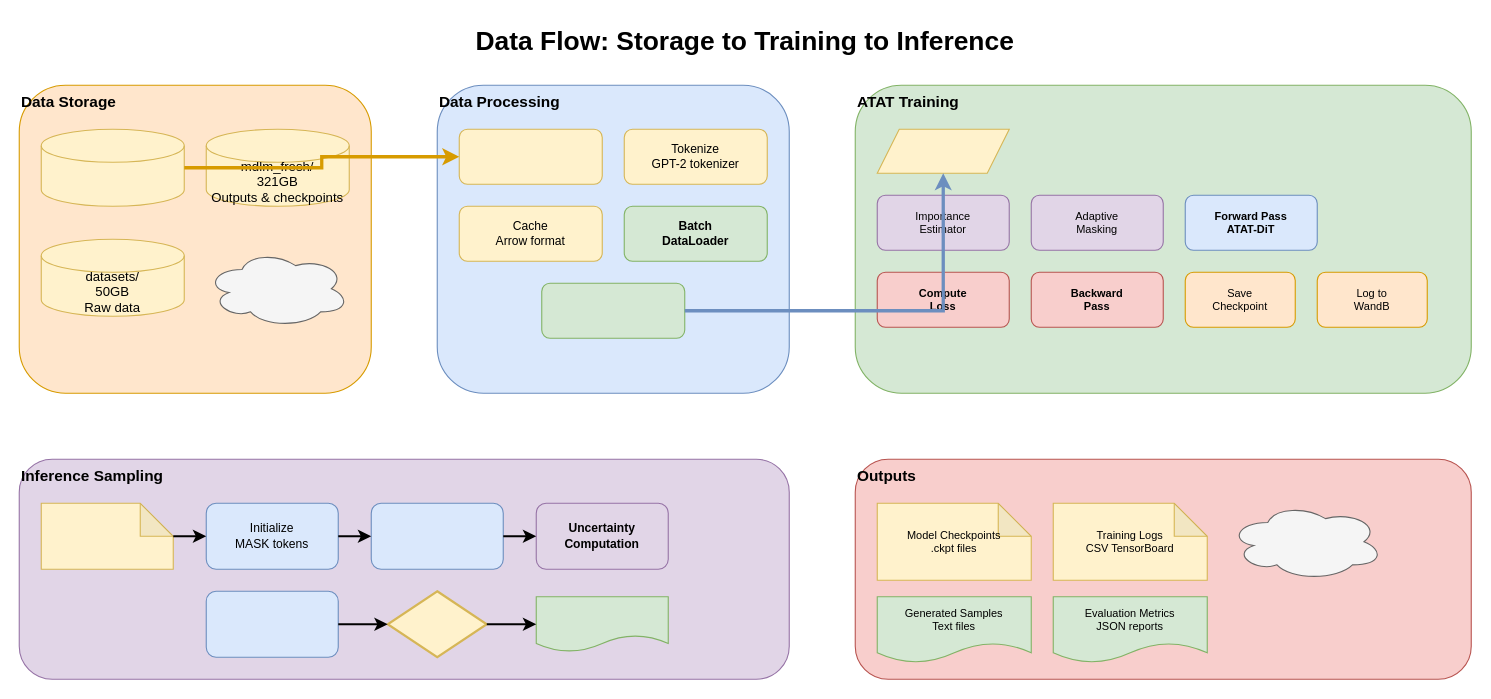
Image size: 1491x699. Some labels were removed from this diagram. Here are the shapes that lost their labels. From the top down, the centre of each, then its label:
At pixel 112 167: "mdlm_data_cache/ 47GB HuggingFace datasets".
At pixel 530 156: "Download datasets library".
At pixel 942 150: "Batch".
At pixel 277 288: "WandB Logs Cloud sync".
At pixel 613 310: "Training Batch Ready".
At pixel 106 535: "Load Checkpoint".
At pixel 436 535: "Model Predict ATAT-DiT".
At pixel 1305 541: "WandB Dashboard Metrics charts".
At pixel 271 623: "Denoise Tokens".
At pixel 436 624: "Done?".
At pixel 601 624: "Generated Text".
